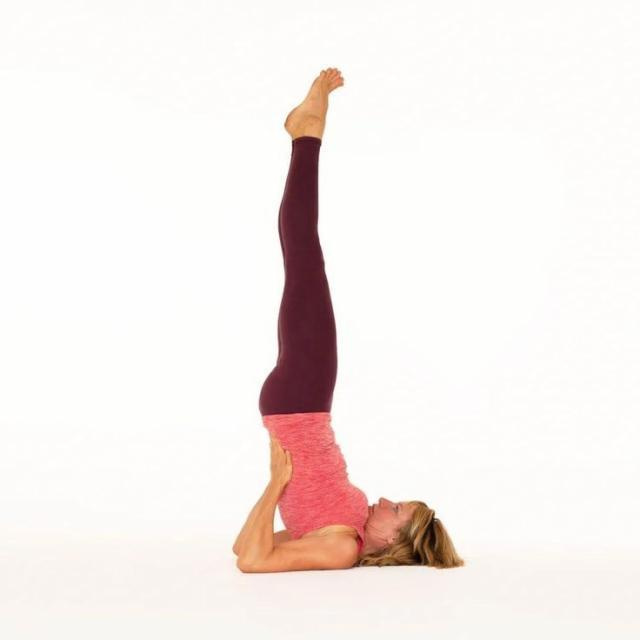yoga-pose shoulderstand: (228, 58, 451, 576)
